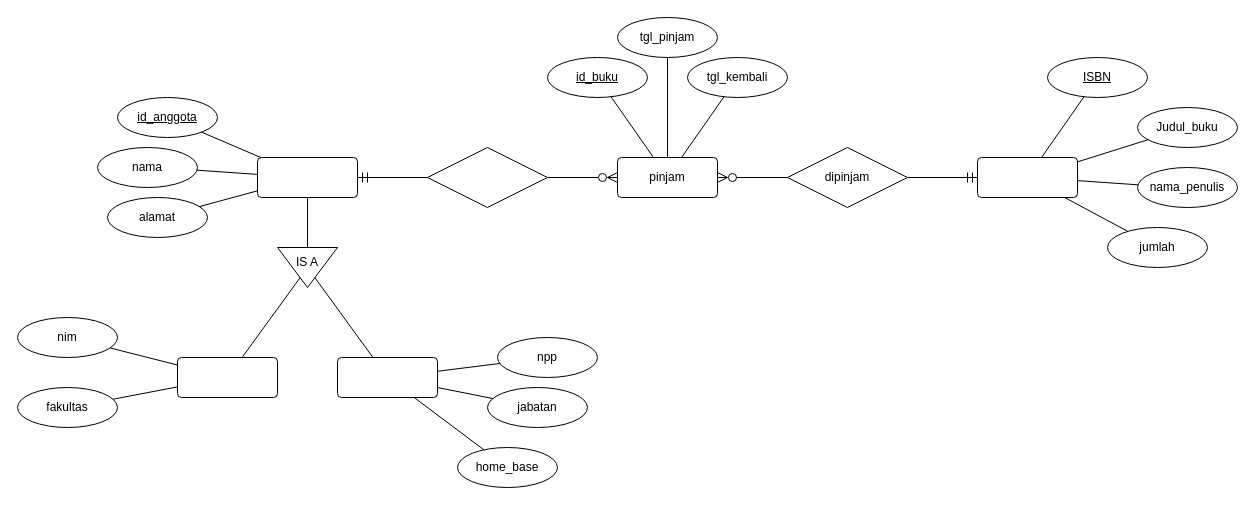
The diagram is 1255 pixels wide and 505 high, and some of its shapes have lost their labels. The shapes that lost their labels are listed below. From the top down, each one's centre as x and y in pixels, then its label:
At pixel 307 177: "Anggota".
At pixel 487 177: "meminjam".
At pixel 1027 177: "Buku".
At pixel 227 377: "mahasiswa".
At pixel 387 377: "tenaga_pendidik".
